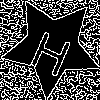H: (27, 21, 78, 78)
